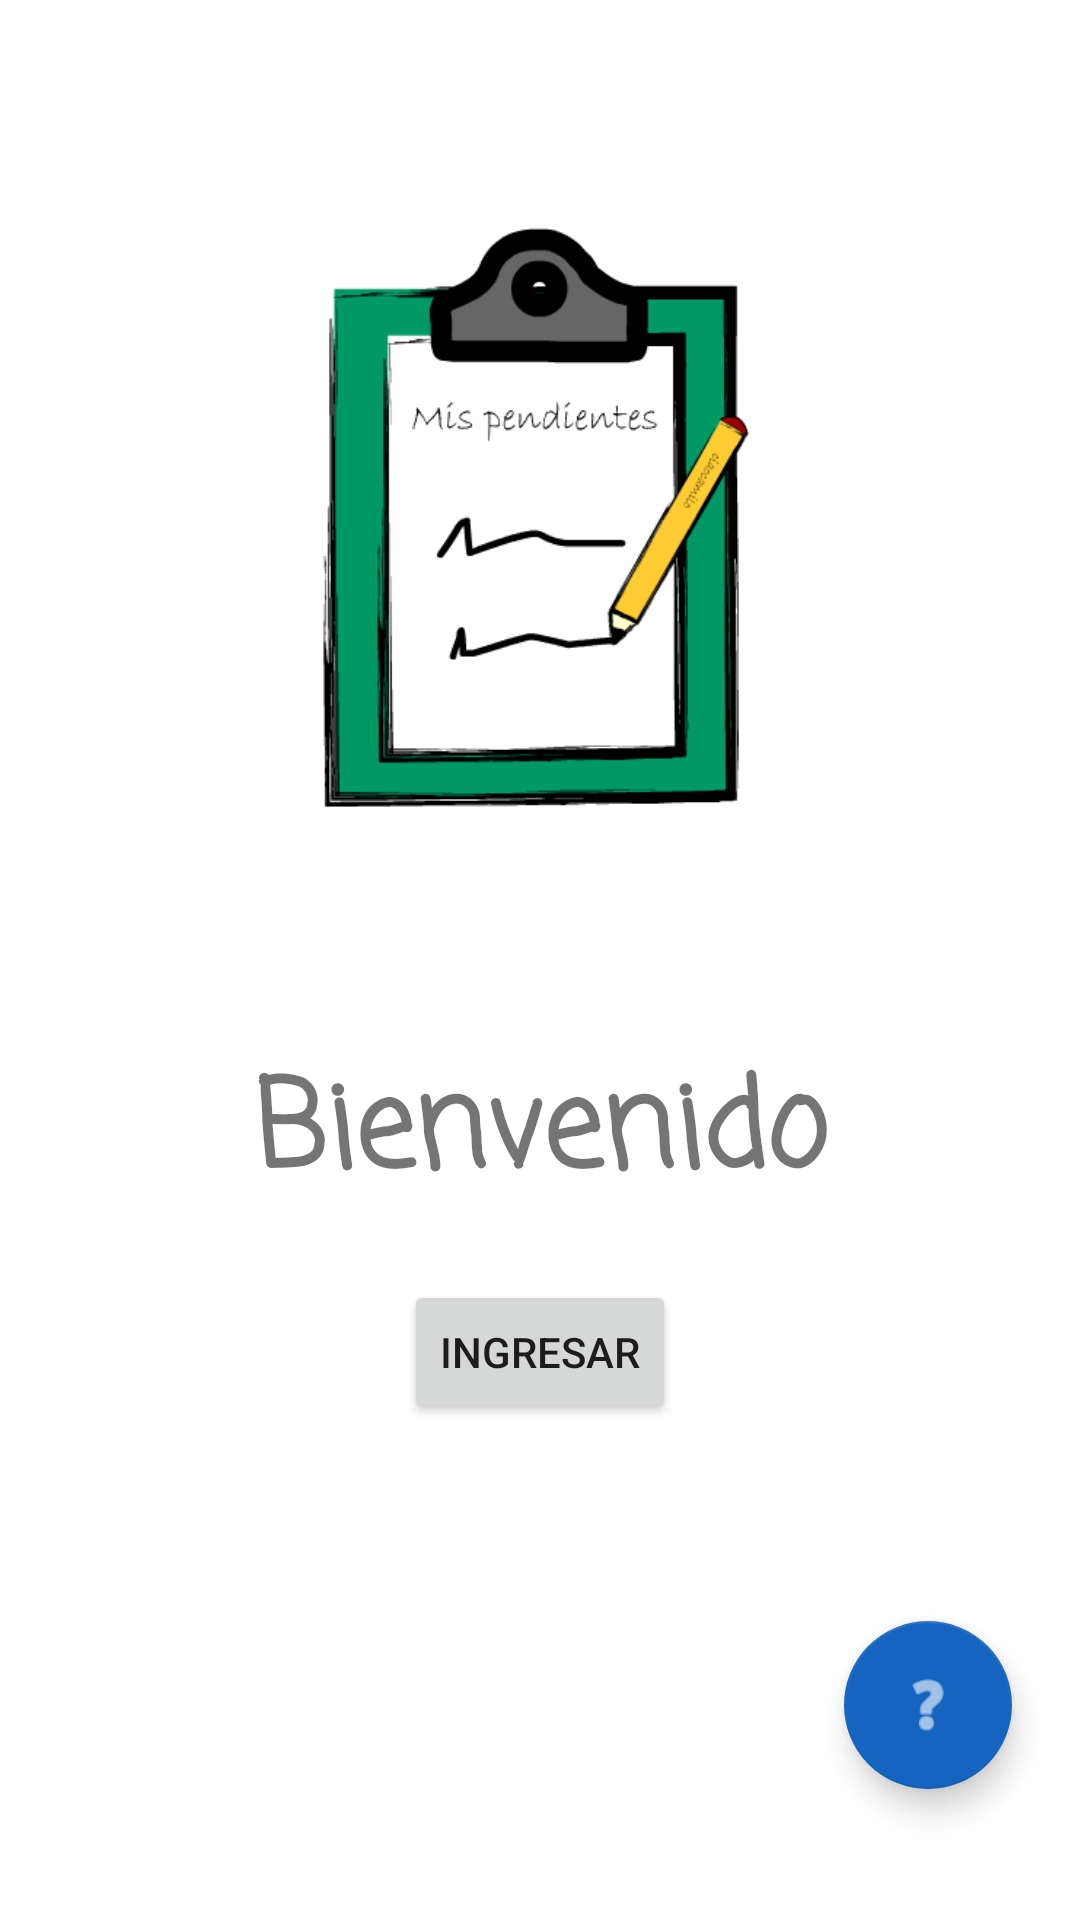

Point at icon controls on the screen. Image size 1080px x 1920px, points as [x,y].
help: [928,1705]
